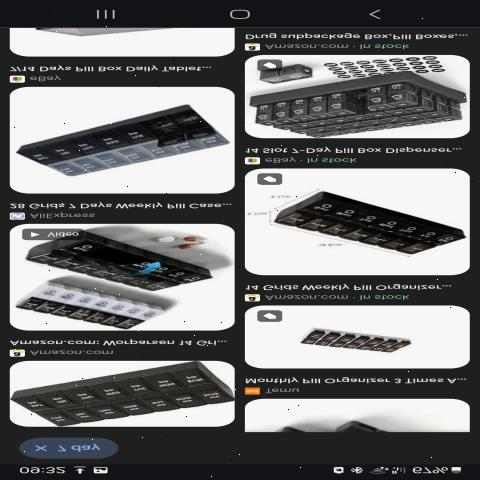PillBox: (249, 178, 467, 264), (15, 90, 224, 179), (11, 362, 257, 432), (16, 228, 221, 290), (300, 328, 422, 362)
